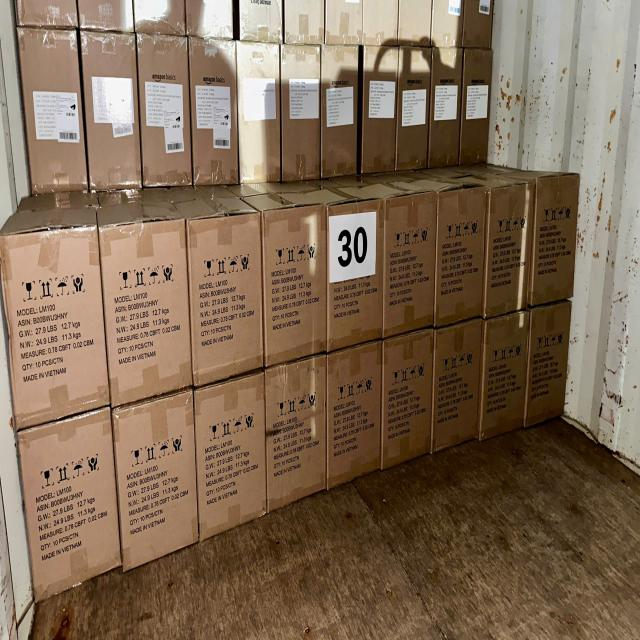Carton: (3, 232, 106, 428), (16, 414, 114, 599), (99, 217, 193, 394), (114, 389, 200, 560), (190, 210, 271, 380), (192, 374, 268, 522), (260, 206, 328, 354), (263, 363, 327, 500), (333, 202, 390, 347), (326, 349, 384, 481), (434, 190, 484, 324), (386, 197, 436, 330), (381, 334, 431, 460), (436, 322, 483, 443), (486, 189, 530, 316), (536, 174, 579, 301), (482, 313, 527, 433), (530, 304, 573, 428)
